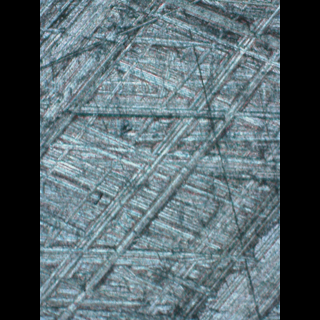d: (50, 35, 269, 290)
